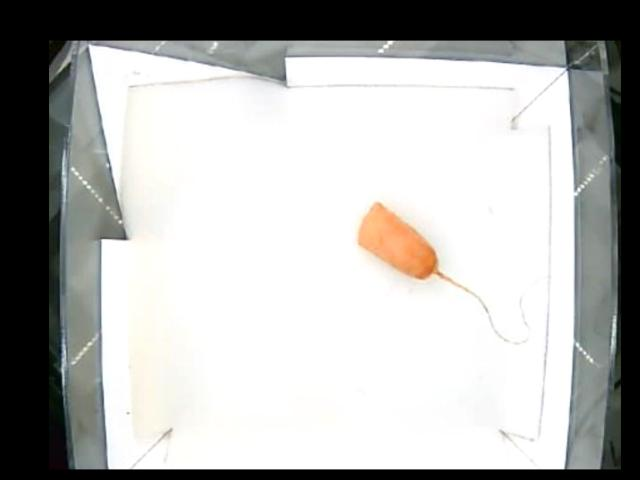Carrot: (354, 201, 441, 284)
